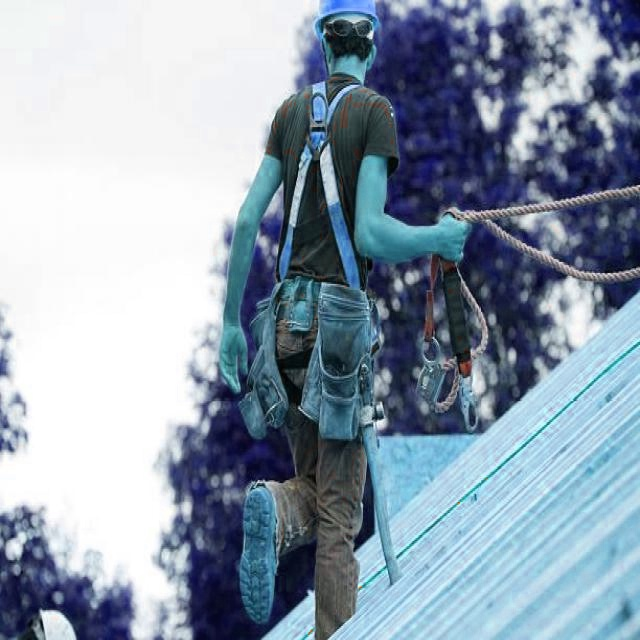safety belt: (248, 88, 395, 453)
